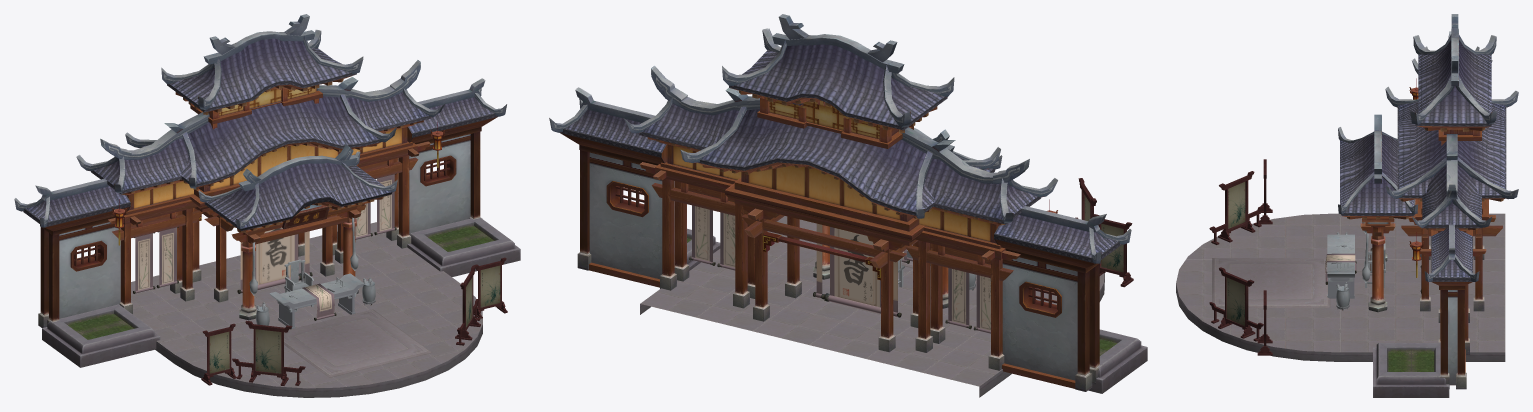
Rendered from ZYbui_CLF_shupaifang01.FBX.
The picture shows the model from 3 angles, left to right: view 1: azimuth 30°, elevation 25°; view 2: azimuth 150°, elevation 25°; view 3: azimuth 270°, elevation 25°; orthographic projection. The views are drawn at different scales.
Visible parts, largest first — view 1: ZYbui_CLF_shupaifang01; view 2: ZYbui_CLF_shupaifang01; view 3: ZYbui_CLF_shupaifang01.
Part boxes in pixels (x1=…): ZYbui_CLF_shupaifang01: x1=14, y1=14, x2=520, y2=397; ZYbui_CLF_shupaifang01: x1=549, y1=14, x2=1147, y2=397; ZYbui_CLF_shupaifang01: x1=1176, y1=14, x2=1518, y2=397.
Bounding box in the file's own units: 2210 × 1165 × 1417.
Materials: 3 (3 with a texture image).
